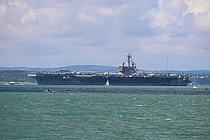MIL_Ship: (26, 53, 193, 87)
